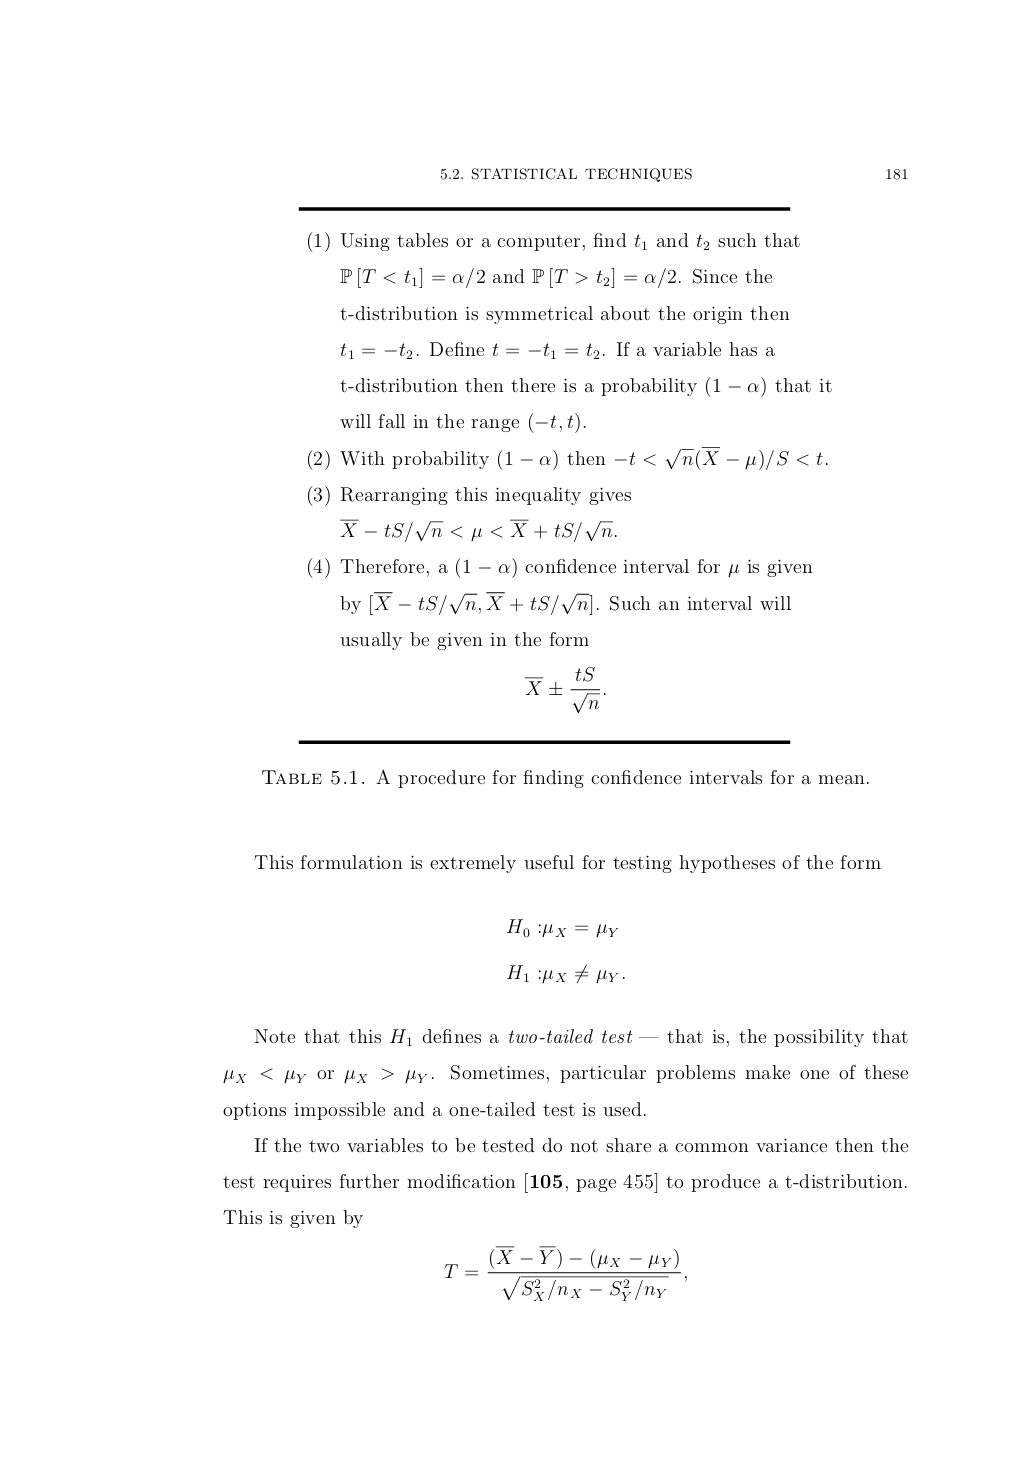figure: (298, 205, 790, 211), (298, 738, 790, 744)
formula: (444, 1245, 686, 1301), (340, 591, 790, 615), (340, 518, 616, 542), (524, 665, 605, 714), (507, 963, 624, 984), (507, 918, 618, 938)
